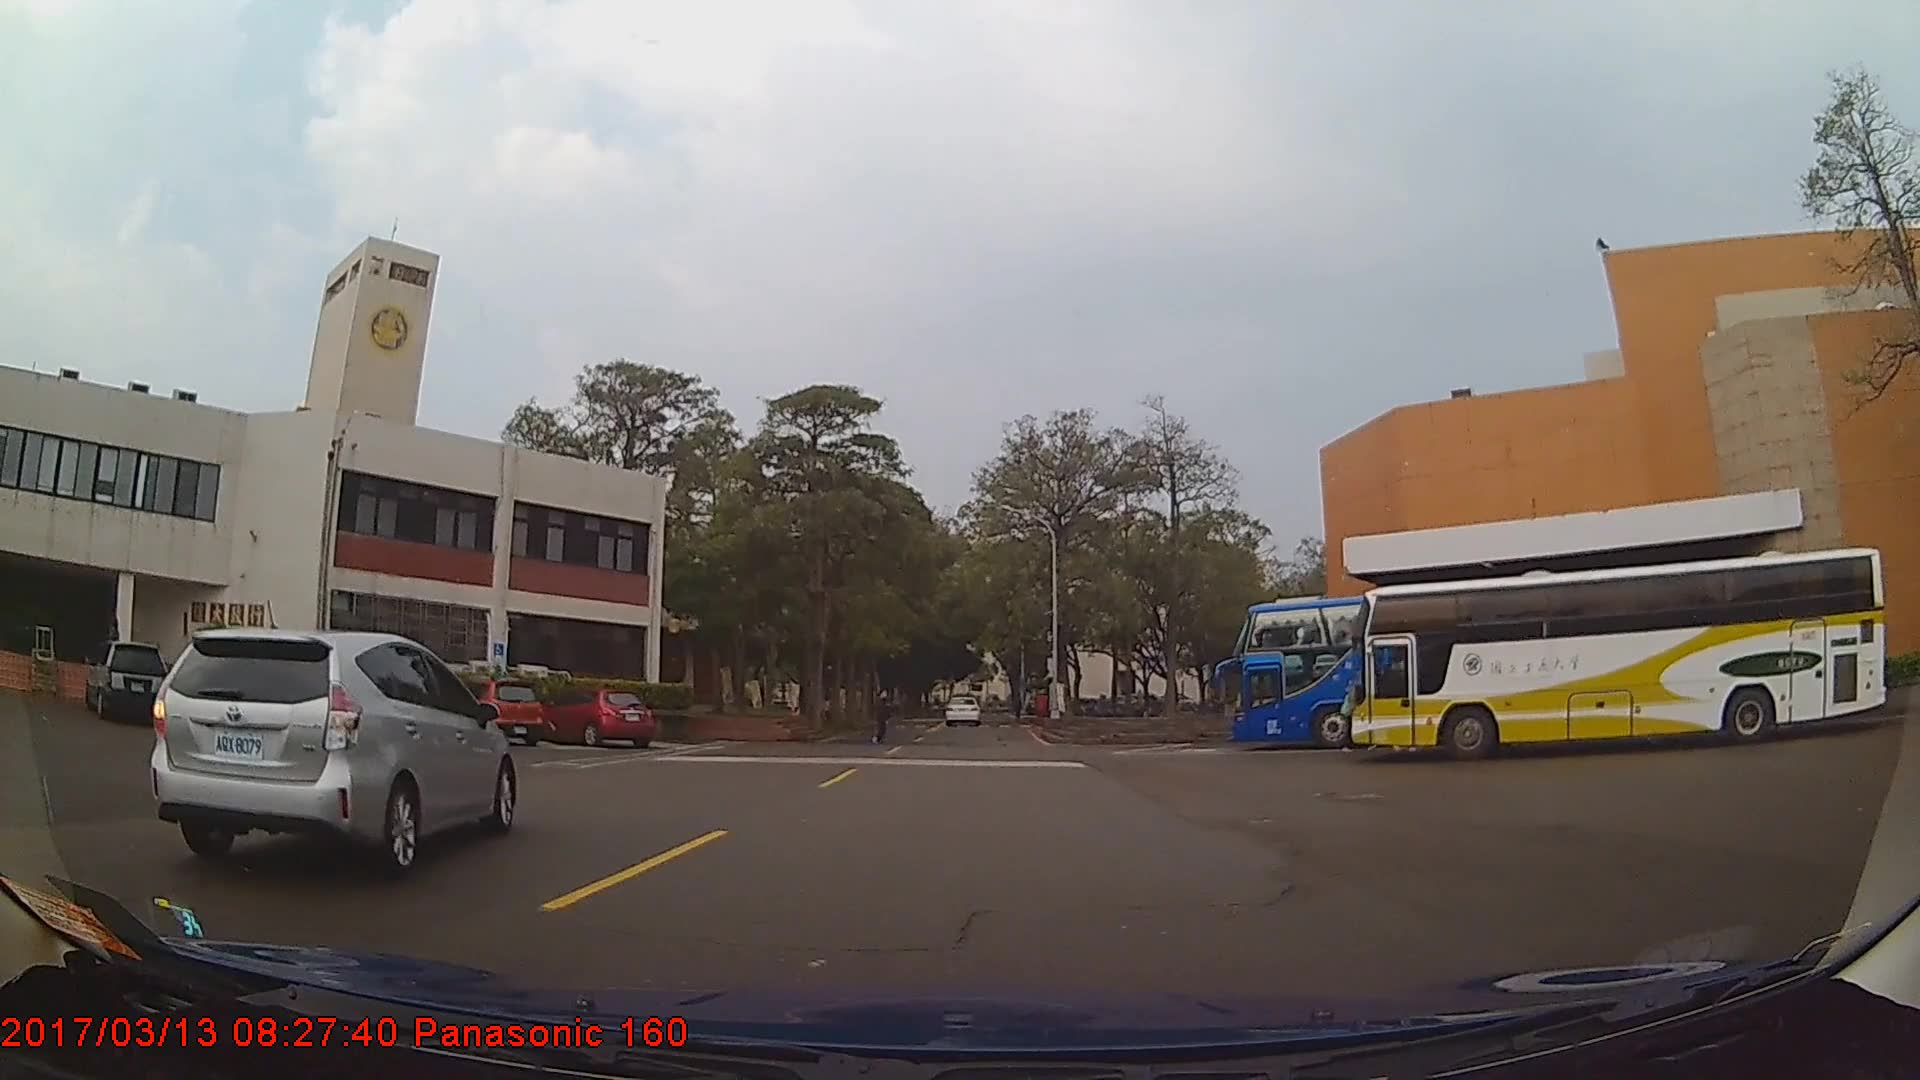pedestrian: (874, 688, 894, 745), (874, 687, 894, 744)
vehicle: (1350, 547, 1889, 762), (148, 624, 514, 875), (1232, 596, 1742, 756), (537, 686, 656, 750), (83, 641, 169, 723), (455, 678, 543, 745), (944, 694, 981, 727)
